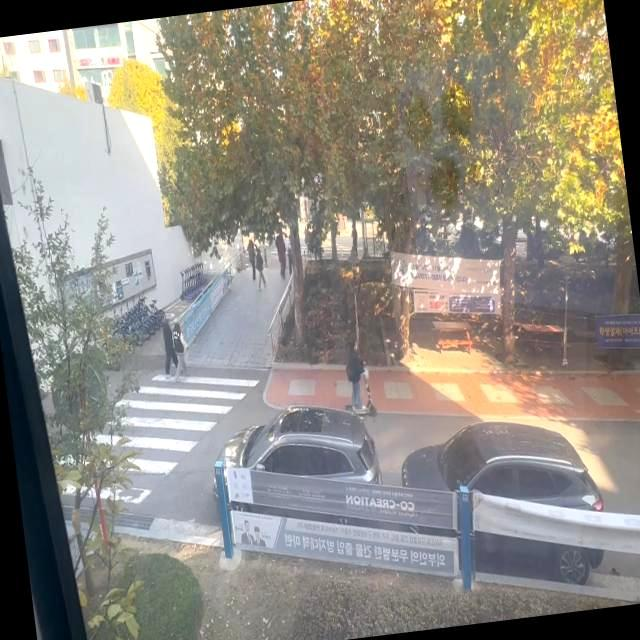bare_head: (347, 337, 366, 353)
human: (343, 334, 363, 405)
kickboard: (337, 400, 382, 418)
